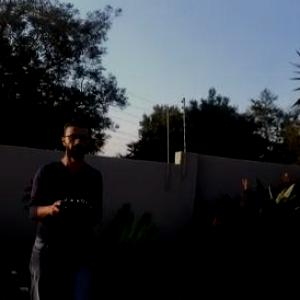follow: (24, 106, 108, 299)
